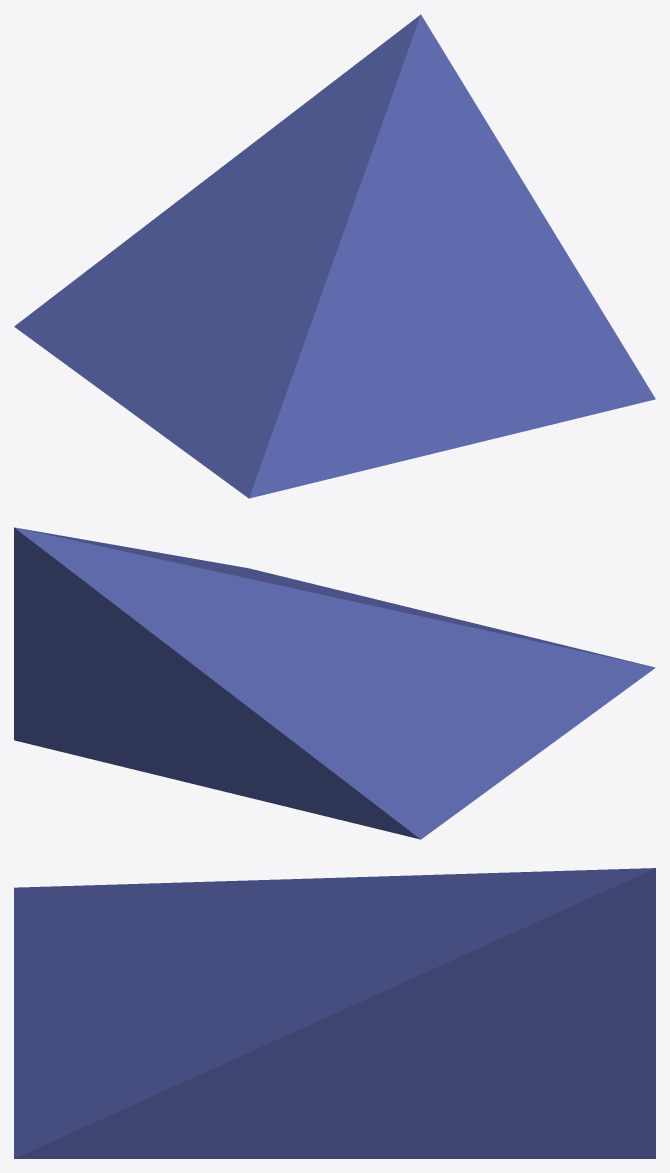
The model's file is CoL_Stair_Corner_2x2_01.fbx.
3 renders of one model, top to bottom at view 1: azimuth 30°, elevation 25°; view 2: azimuth 150°, elevation 25°; view 3: azimuth 270°, elevation 25°, orthographic. The views are drawn at different scales.
Visible parts, largest first — view 1: CoL_Stair_Corner_2x2_01; view 2: CoL_Stair_Corner_2x2_01; view 3: CoL_Stair_Corner_2x2_01.
Boxes of the visible parts, left/top/right/bottom form: CoL_Stair_Corner_2x2_01: left=14, top=14, right=655, bottom=498; CoL_Stair_Corner_2x2_01: left=14, top=527, right=655, bottom=839; CoL_Stair_Corner_2x2_01: left=14, top=868, right=655, bottom=1158.
Size of the model in its own units: 200 by 100 by 200.
